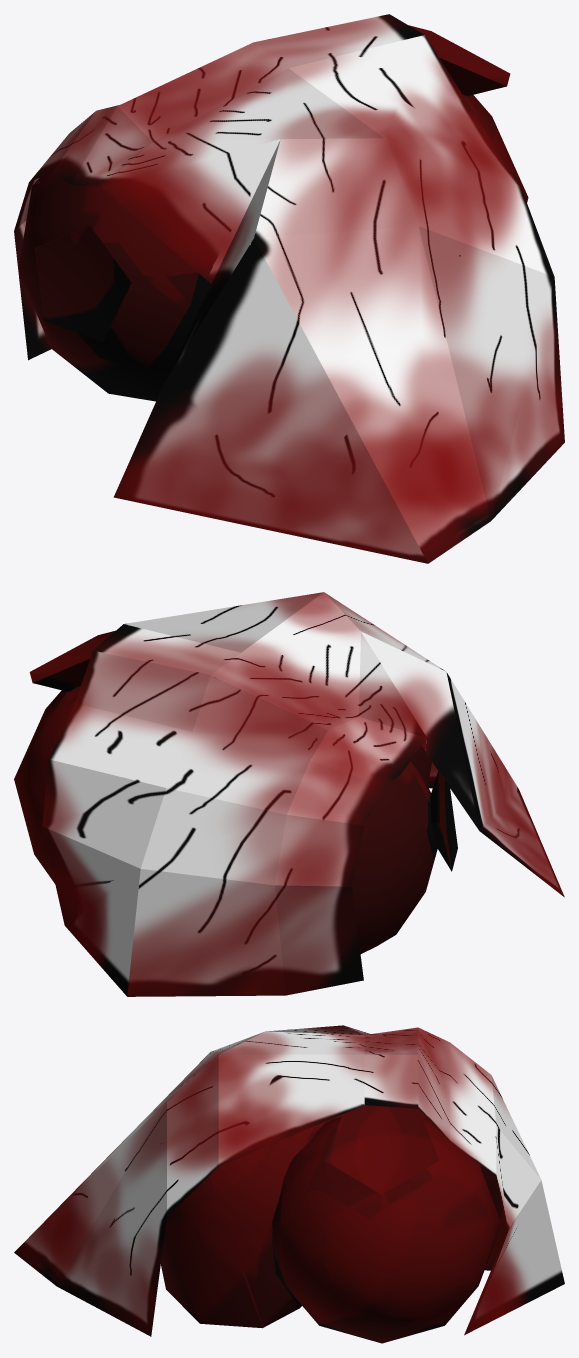
The model's file is bags.fbx.
3 views of the same model, one above another, from view 1: azimuth 30°, elevation 25°; view 2: azimuth 150°, elevation 25°; view 3: azimuth 270°, elevation 25° (orthographic). The views are drawn at different scales.
Parts seen in each view (by area): view 1: Plane, Icosphere.001; view 2: Plane, Icosphere.001; view 3: Plane, Icosphere.001.
Boxes of the visible parts, x1,y1,x2,y2 form: Plane: (14,14,564,563); Icosphere.001: (18,25,528,401); Plane: (42,592,564,996); Icosphere.001: (14,630,457,953); Plane: (14,1025,564,1336); Icosphere.001: (161,1105,507,1343).
Bounding box in the file's own units: 373 × 219 × 461.
